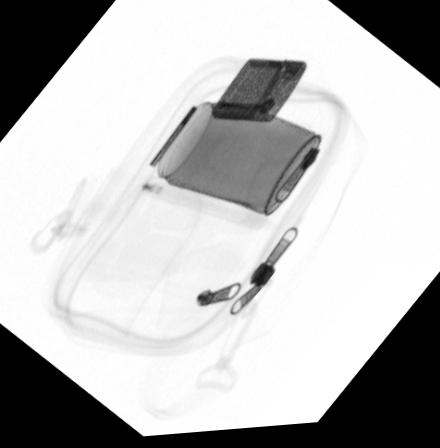Lighter: (211, 60, 307, 126)
